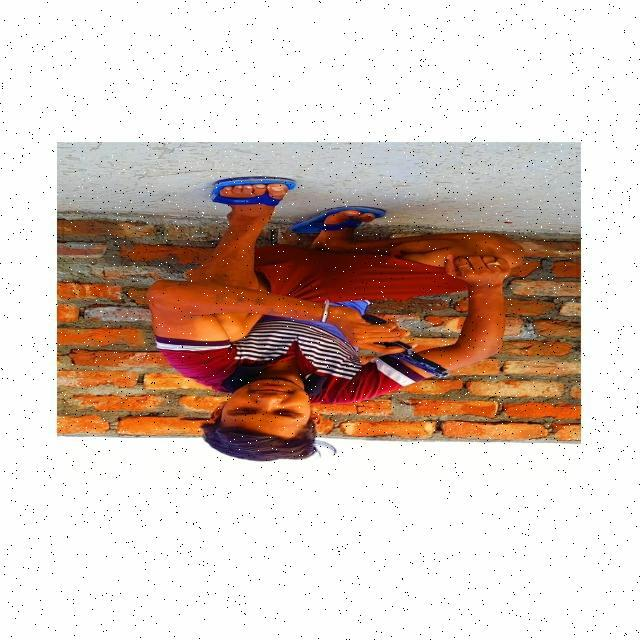gun: (350, 305, 474, 386)
